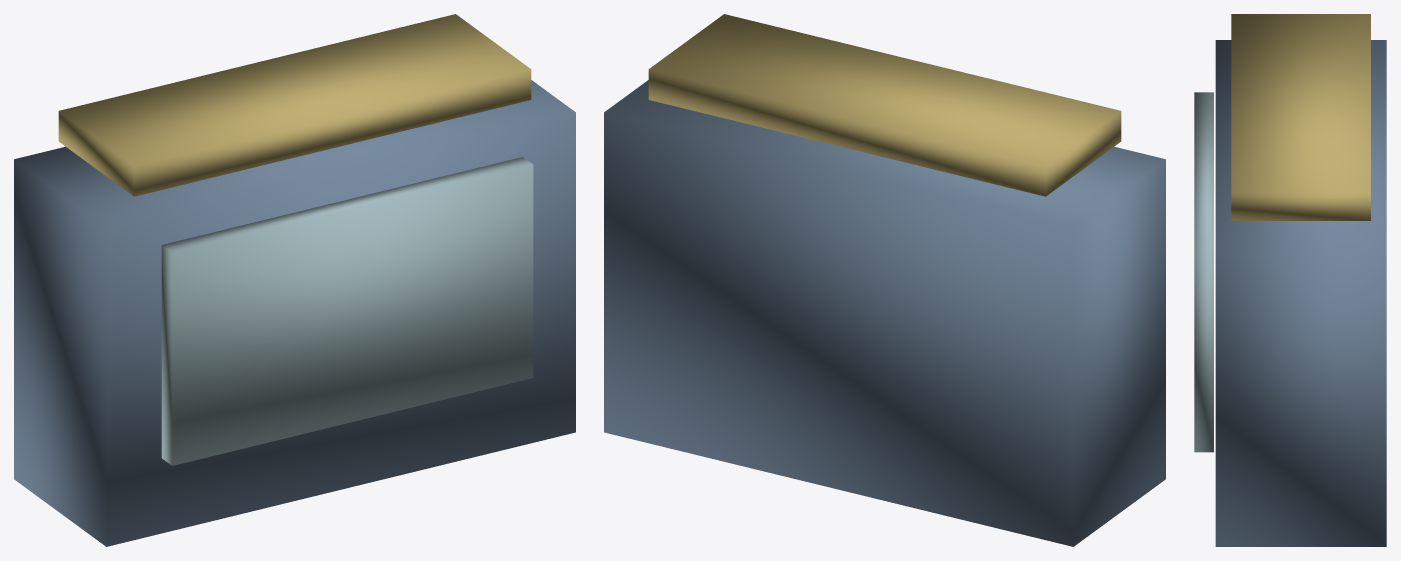
File: lottery_counter_display__wide.glb
The picture shows the model from 3 angles, left to right: view 1: azimuth 30°, elevation 25°; view 2: azimuth 150°, elevation 25°; view 3: azimuth 270°, elevation 25°; orthographic projection. The views are drawn at different scales.
Visible parts, largest first — view 1: world; view 2: world; view 3: world.
Part boxes in pixels (x1,y1,x2,y2): world: (14,14,575,546); world: (604,14,1165,546); world: (1194,14,1386,546).
Size of the model in its own units: 0.6448 by 0.48 by 0.2475.
